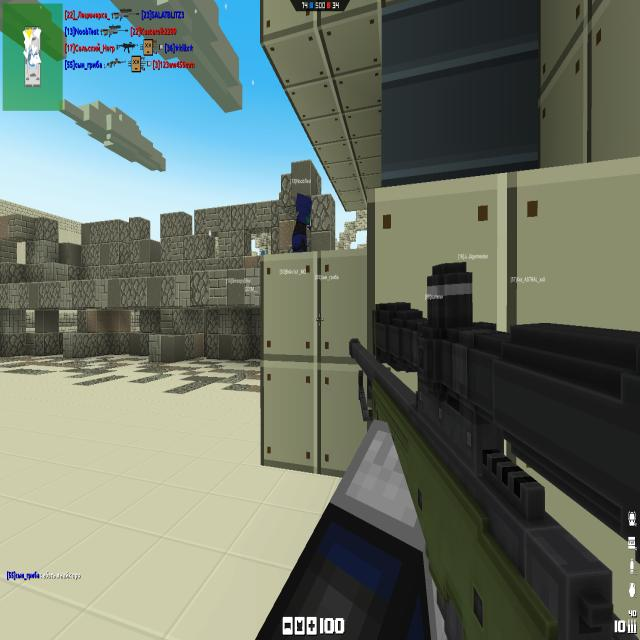player: (292, 193, 312, 253)
